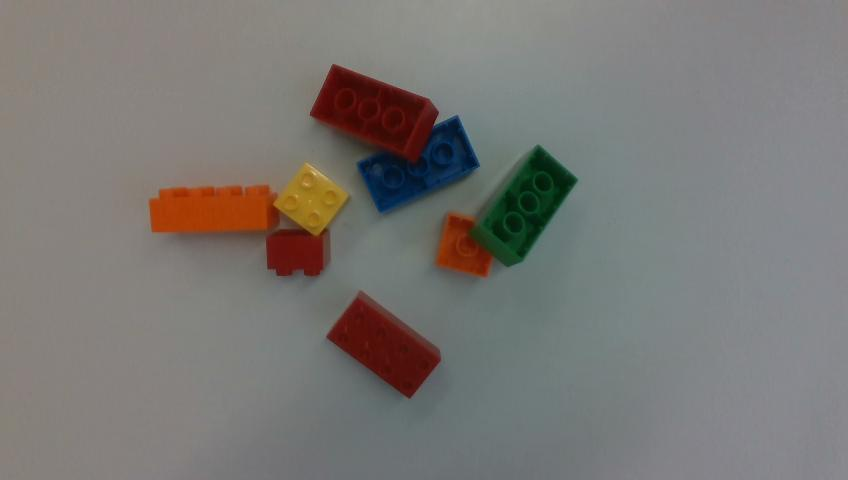2x2_orange: (435, 213, 492, 276)
2x2_red: (267, 229, 329, 275)
2x2_yellow: (274, 162, 348, 235)
4x2_blue: (358, 116, 479, 213)
4x2_green: (470, 145, 576, 266)
4x2_orange: (150, 185, 279, 232)
4x2_red: (310, 65, 438, 161), (327, 291, 440, 397)
